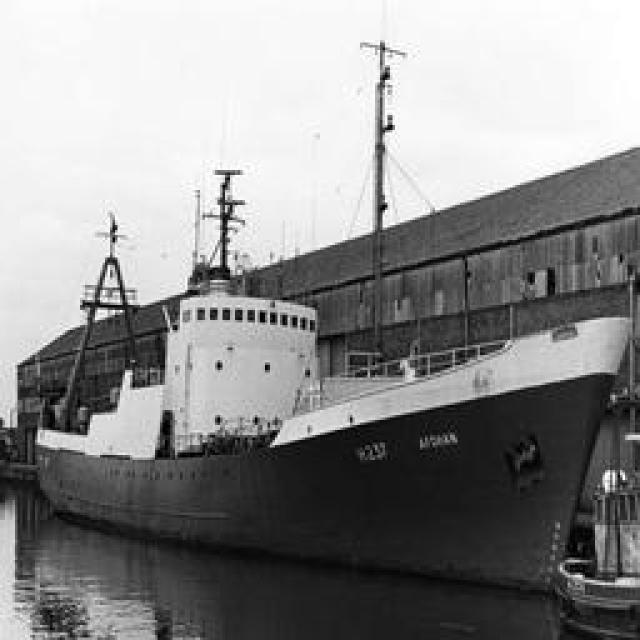Ship: (36, 261, 619, 589)
